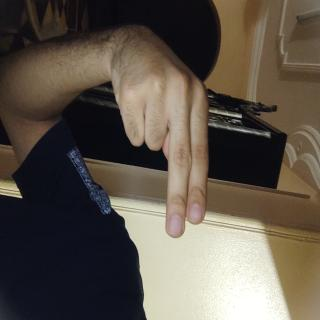AYN: (13, 141, 183, 281)
